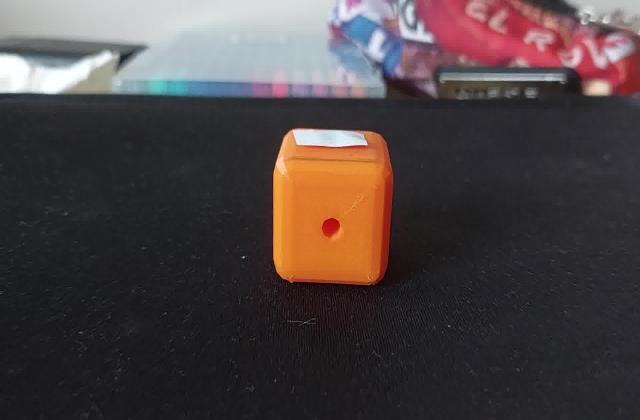cube: (267, 127, 393, 288)
white: (290, 128, 372, 156)
